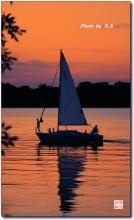fanchuan: (31, 47, 111, 149)
